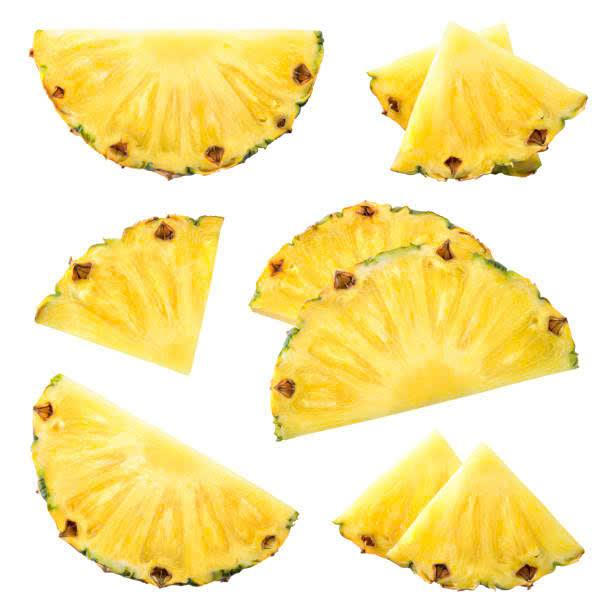pineapple: (26, 364, 292, 612), (261, 223, 574, 431), (27, 21, 395, 180), (323, 431, 610, 596), (14, 206, 293, 371), (341, 26, 607, 178)
